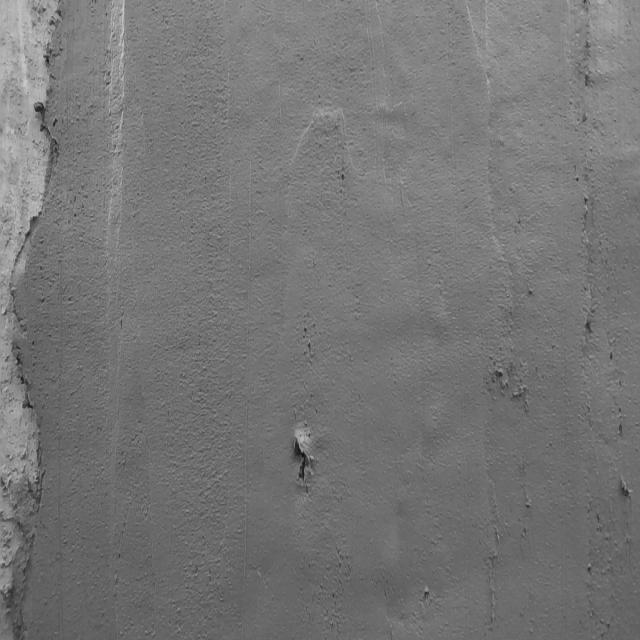trowels marks: (482, 51, 496, 249), (485, 478, 499, 634)
